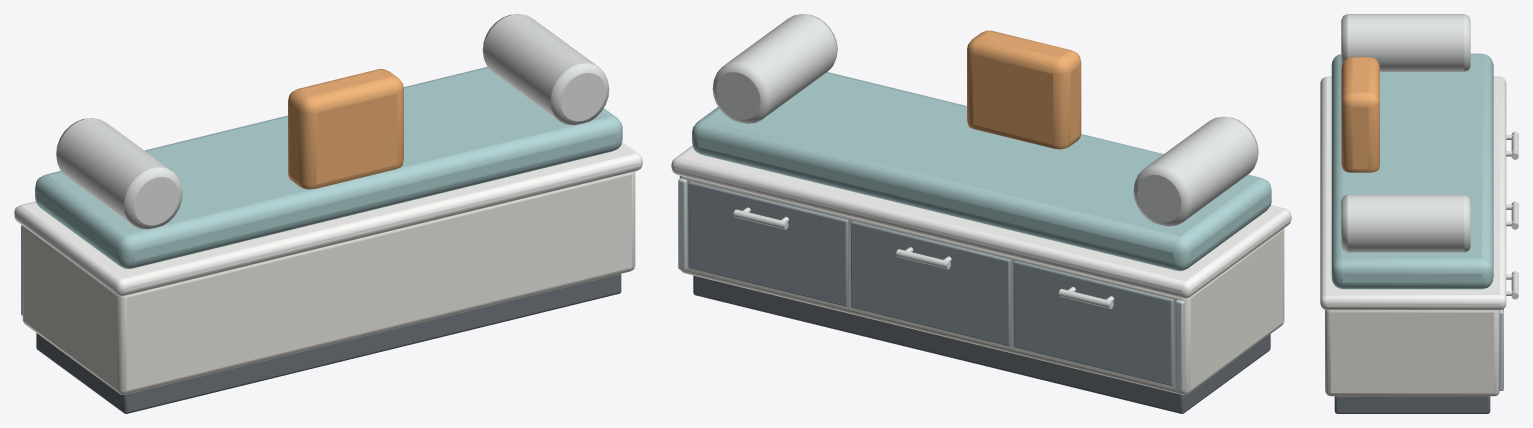
File: window_seat.glb
3 views of the same model, side by side, from view 1: azimuth 30°, elevation 25°; view 2: azimuth 150°, elevation 25°; view 3: azimuth 270°, elevation 25° (orthographic). The views are drawn at different scales.
Parts seen in each view (by area): view 1: bench_body_warm_shell, seat_teal_soft, bolsters_warm_panel, bench_cap_white_painted, throw_pillow_orange, bench_plinth_graphite; view 2: seat_teal_soft, bench_cap_white_painted, bolsters_warm_panel, bench_body_warm_shell, drawer_1_slate_panel, drawer_0_slate_panel, drawer_2_slate_panel, throw_pillow_orange, bench_plinth_graphite, bench_rails_alloy; view 3: seat_teal_soft, bench_body_warm_shell, bolsters_warm_panel, bench_cap_white_painted, throw_pillow_orange, bench_plinth_graphite, bench_rails_alloy, drawer_pull_1_satin_steel, drawer_pull_0_satin_steel, drawer_pull_2_satin_steel.
Part boxes in pixels (box(x1,y1,x2,y2)): bench_body_warm_shell: box(22, 171, 635, 394); seat_teal_soft: box(35, 67, 622, 268); bolsters_warm_panel: box(56, 14, 609, 229); bench_cap_white_painted: box(14, 142, 642, 296); throw_pillow_orange: box(288, 69, 403, 189); bench_plinth_graphite: box(36, 274, 621, 413); seat_teal_soft: box(692, 72, 1271, 270); bench_cap_white_painted: box(671, 145, 1291, 298); bolsters_warm_panel: box(712, 14, 1258, 226); bench_body_warm_shell: box(679, 175, 1284, 394); drawer_1_slate_panel: box(851, 221, 1011, 346); drawer_0_slate_panel: box(1013, 261, 1173, 385); drawer_2_slate_panel: box(688, 181, 848, 306); throw_pillow_orange: box(967, 30, 1081, 149); bench_plinth_graphite: box(693, 275, 1270, 413); bench_rails_alloy: box(678, 178, 1184, 391); seat_teal_soft: box(1331, 53, 1493, 289); bench_body_warm_shell: box(1325, 310, 1499, 396); bolsters_warm_panel: box(1341, 14, 1470, 252); bench_cap_white_painted: box(1320, 76, 1506, 310); throw_pillow_orange: box(1341, 57, 1379, 172); bench_plinth_graphite: box(1334, 396, 1490, 413); bench_rails_alloy: box(1499, 309, 1503, 390); drawer_pull_1_satin_steel: box(1506, 201, 1518, 229); drawer_pull_0_satin_steel: box(1506, 131, 1518, 159); drawer_pull_2_satin_steel: box(1506, 271, 1518, 299).
Size of the model in its own units: 1.63 by 0.78 by 0.613.
